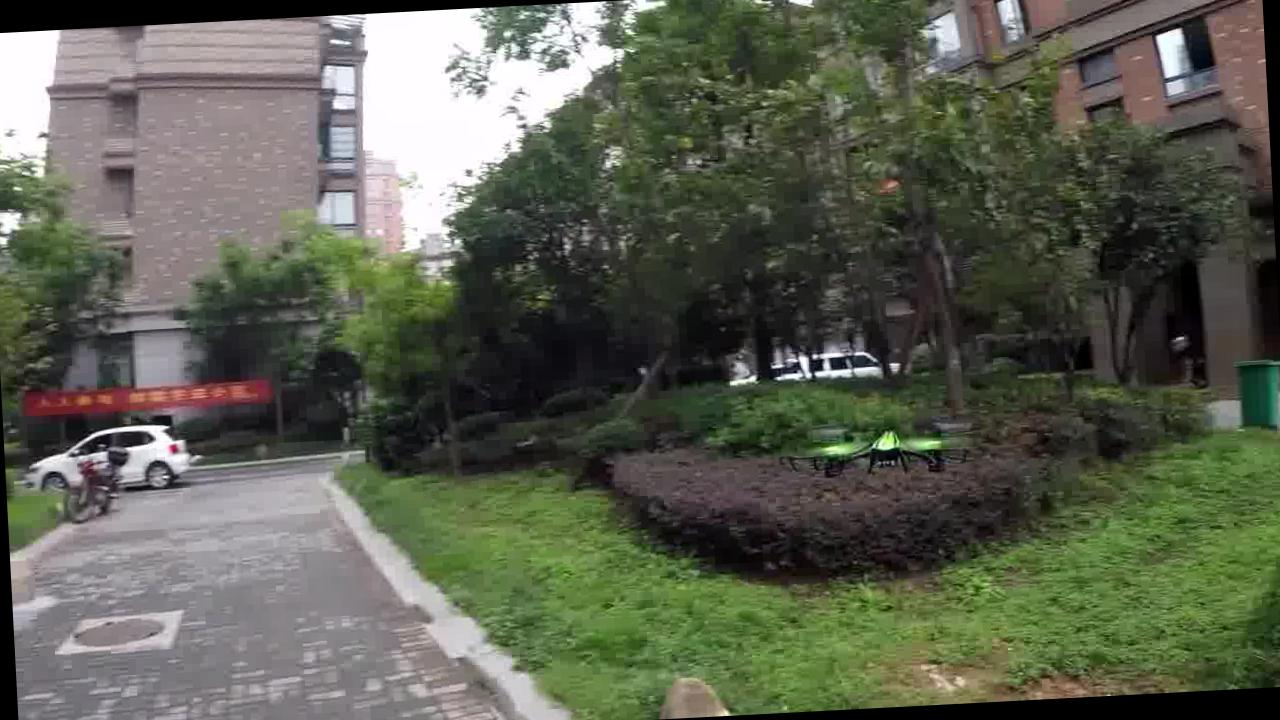drone: (782, 415, 968, 482)
